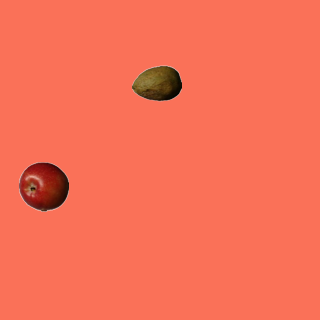Apple Braeburn: (18, 161, 68, 211)
Papaya: (131, 58, 181, 108)
